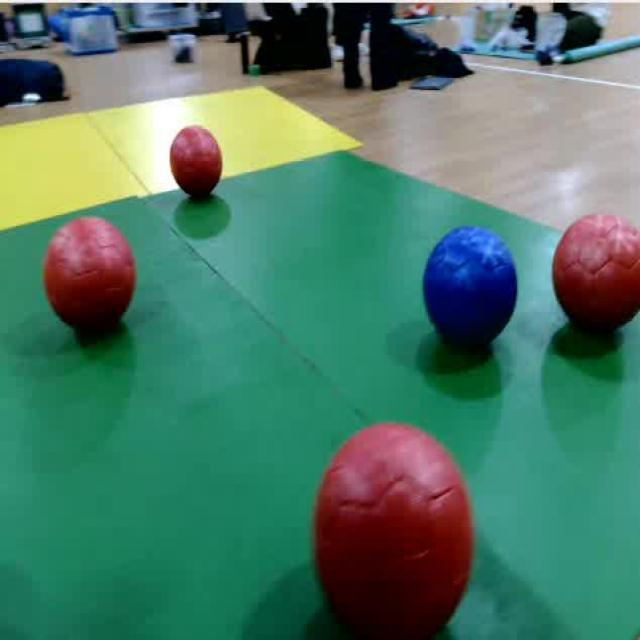blue_ball: (422, 224, 522, 360)
red_ball: (311, 419, 478, 640), (42, 213, 140, 341), (552, 209, 640, 340), (170, 122, 226, 204)
